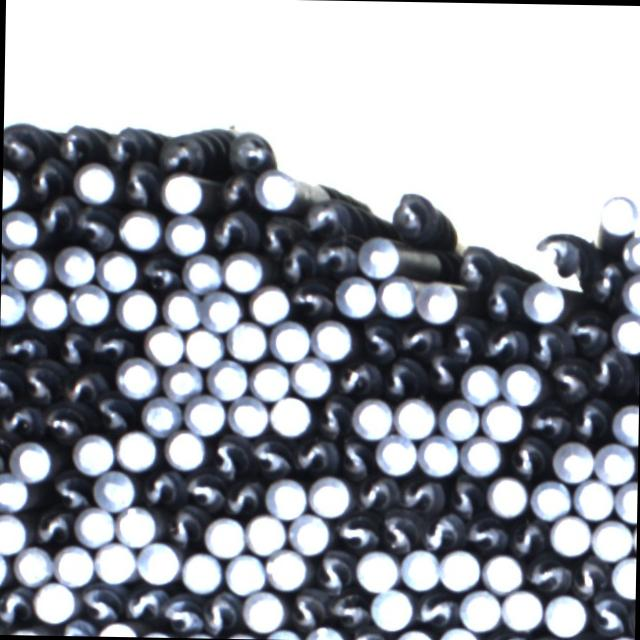tool: (596, 191, 640, 235), (394, 394, 437, 439), (30, 580, 76, 622), (351, 396, 394, 440), (225, 318, 268, 361), (437, 548, 480, 591), (334, 274, 377, 317), (590, 516, 632, 560), (484, 472, 526, 516), (136, 540, 178, 584), (370, 587, 414, 629), (354, 548, 398, 590), (265, 547, 307, 590), (416, 434, 459, 476), (115, 428, 158, 470), (358, 235, 400, 278), (6, 248, 49, 290), (373, 433, 416, 475), (244, 512, 287, 554), (268, 319, 310, 362), (248, 358, 290, 401), (247, 282, 290, 324), (54, 244, 96, 287), (72, 160, 115, 202), (544, 592, 586, 635), (308, 474, 351, 516), (71, 432, 114, 474), (288, 512, 330, 554), (268, 393, 310, 435), (458, 588, 500, 630), (206, 358, 248, 400), (93, 541, 135, 583), (417, 280, 459, 322), (242, 588, 284, 630), (500, 588, 542, 630), (92, 468, 134, 510), (311, 316, 353, 358), (223, 551, 265, 593), (481, 550, 523, 592), (116, 288, 158, 330), (523, 280, 565, 322), (552, 441, 594, 483), (264, 476, 306, 518), (179, 550, 221, 592), (377, 274, 418, 317), (203, 514, 244, 557), (458, 362, 501, 403), (164, 213, 207, 254), (502, 361, 542, 405), (53, 544, 94, 586), (549, 514, 591, 555), (185, 394, 226, 436), (594, 442, 635, 484), (116, 504, 157, 546), (160, 171, 202, 212), (222, 251, 264, 292), (11, 544, 52, 586), (73, 506, 116, 546), (98, 248, 138, 291), (115, 358, 158, 398), (11, 438, 52, 479), (202, 289, 242, 331), (290, 356, 332, 396), (530, 478, 570, 520), (574, 478, 614, 520), (227, 396, 269, 436), (481, 400, 523, 440), (459, 436, 501, 476), (28, 286, 68, 328), (255, 168, 297, 208), (399, 548, 439, 590), (160, 288, 200, 329), (143, 324, 183, 365), (440, 399, 480, 440), (140, 394, 181, 434), (163, 428, 204, 468), (117, 210, 158, 250), (182, 326, 222, 366), (70, 284, 110, 324), (182, 254, 222, 292), (1, 208, 38, 248), (164, 362, 202, 400), (611, 402, 639, 444), (0, 471, 29, 511), (609, 554, 636, 596), (612, 313, 640, 352), (0, 512, 26, 551), (0, 284, 25, 324), (614, 480, 638, 520), (622, 272, 640, 315), (2, 168, 20, 208), (622, 230, 640, 270)
tool_b: (532, 228, 594, 282), (160, 126, 230, 168), (390, 188, 436, 239), (298, 195, 352, 238), (586, 346, 632, 396), (373, 511, 424, 554), (418, 508, 467, 552), (522, 552, 571, 596), (69, 202, 115, 248), (2, 120, 46, 166), (253, 208, 299, 252), (544, 357, 588, 403), (196, 591, 244, 633), (315, 546, 356, 595), (105, 123, 156, 162), (286, 276, 333, 318), (56, 124, 105, 164), (308, 232, 352, 276), (205, 434, 250, 477), (568, 308, 610, 353), (290, 436, 337, 476), (484, 272, 521, 322), (180, 468, 222, 512), (161, 504, 203, 548), (124, 582, 166, 626), (465, 512, 507, 556), (396, 476, 444, 514), (528, 321, 568, 366), (230, 128, 274, 168), (117, 164, 157, 208), (78, 580, 122, 620), (454, 243, 494, 287), (333, 510, 378, 549), (346, 474, 394, 510), (27, 156, 68, 198), (222, 471, 264, 512), (162, 590, 204, 631), (310, 396, 351, 438), (569, 555, 610, 597), (18, 362, 61, 402), (209, 211, 254, 249), (90, 392, 135, 430), (333, 359, 378, 397), (506, 435, 545, 478), (215, 170, 259, 208), (136, 252, 180, 290), (326, 590, 371, 627), (355, 320, 396, 360), (411, 590, 456, 626), (288, 590, 328, 630), (270, 241, 310, 281), (588, 596, 628, 636), (41, 399, 82, 438), (382, 354, 420, 396), (336, 435, 372, 479), (52, 470, 92, 509), (445, 314, 477, 362), (479, 326, 524, 360), (444, 477, 482, 517), (31, 508, 73, 544), (526, 406, 568, 442), (60, 366, 104, 400), (36, 195, 74, 234), (397, 318, 437, 355), (0, 400, 41, 436), (588, 260, 621, 304), (574, 395, 607, 439), (508, 517, 545, 556), (0, 328, 45, 360), (0, 582, 32, 626), (248, 436, 285, 474), (144, 467, 182, 504), (87, 327, 132, 358), (424, 350, 456, 392), (56, 327, 90, 365), (54, 616, 96, 636), (0, 362, 21, 400), (0, 430, 12, 473)
